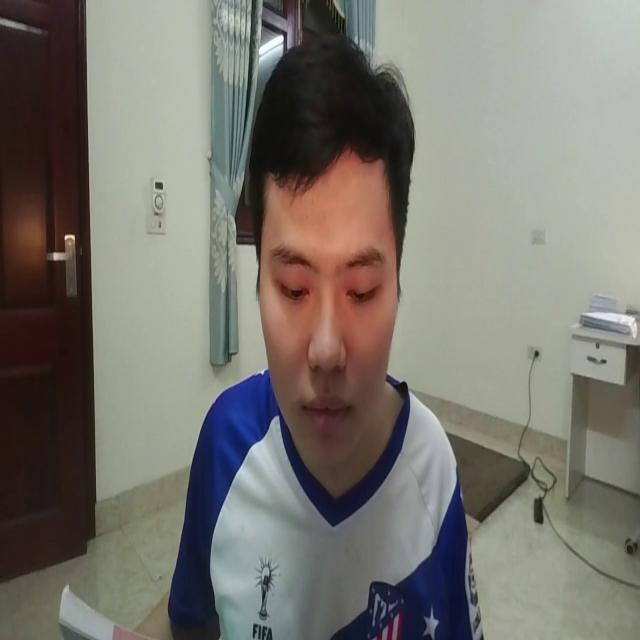book: (52, 566, 160, 640)
student: (182, 0, 496, 640)
